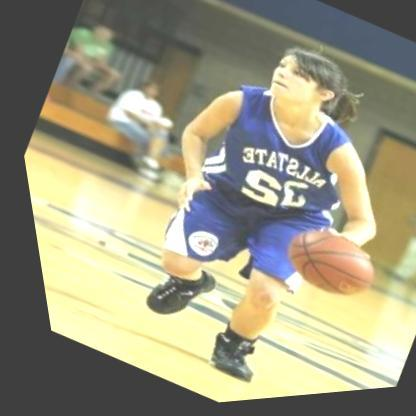basketball: (257, 212, 384, 323)
